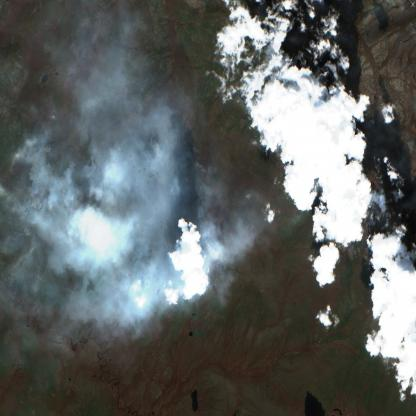fire: (75, 113, 215, 324)
